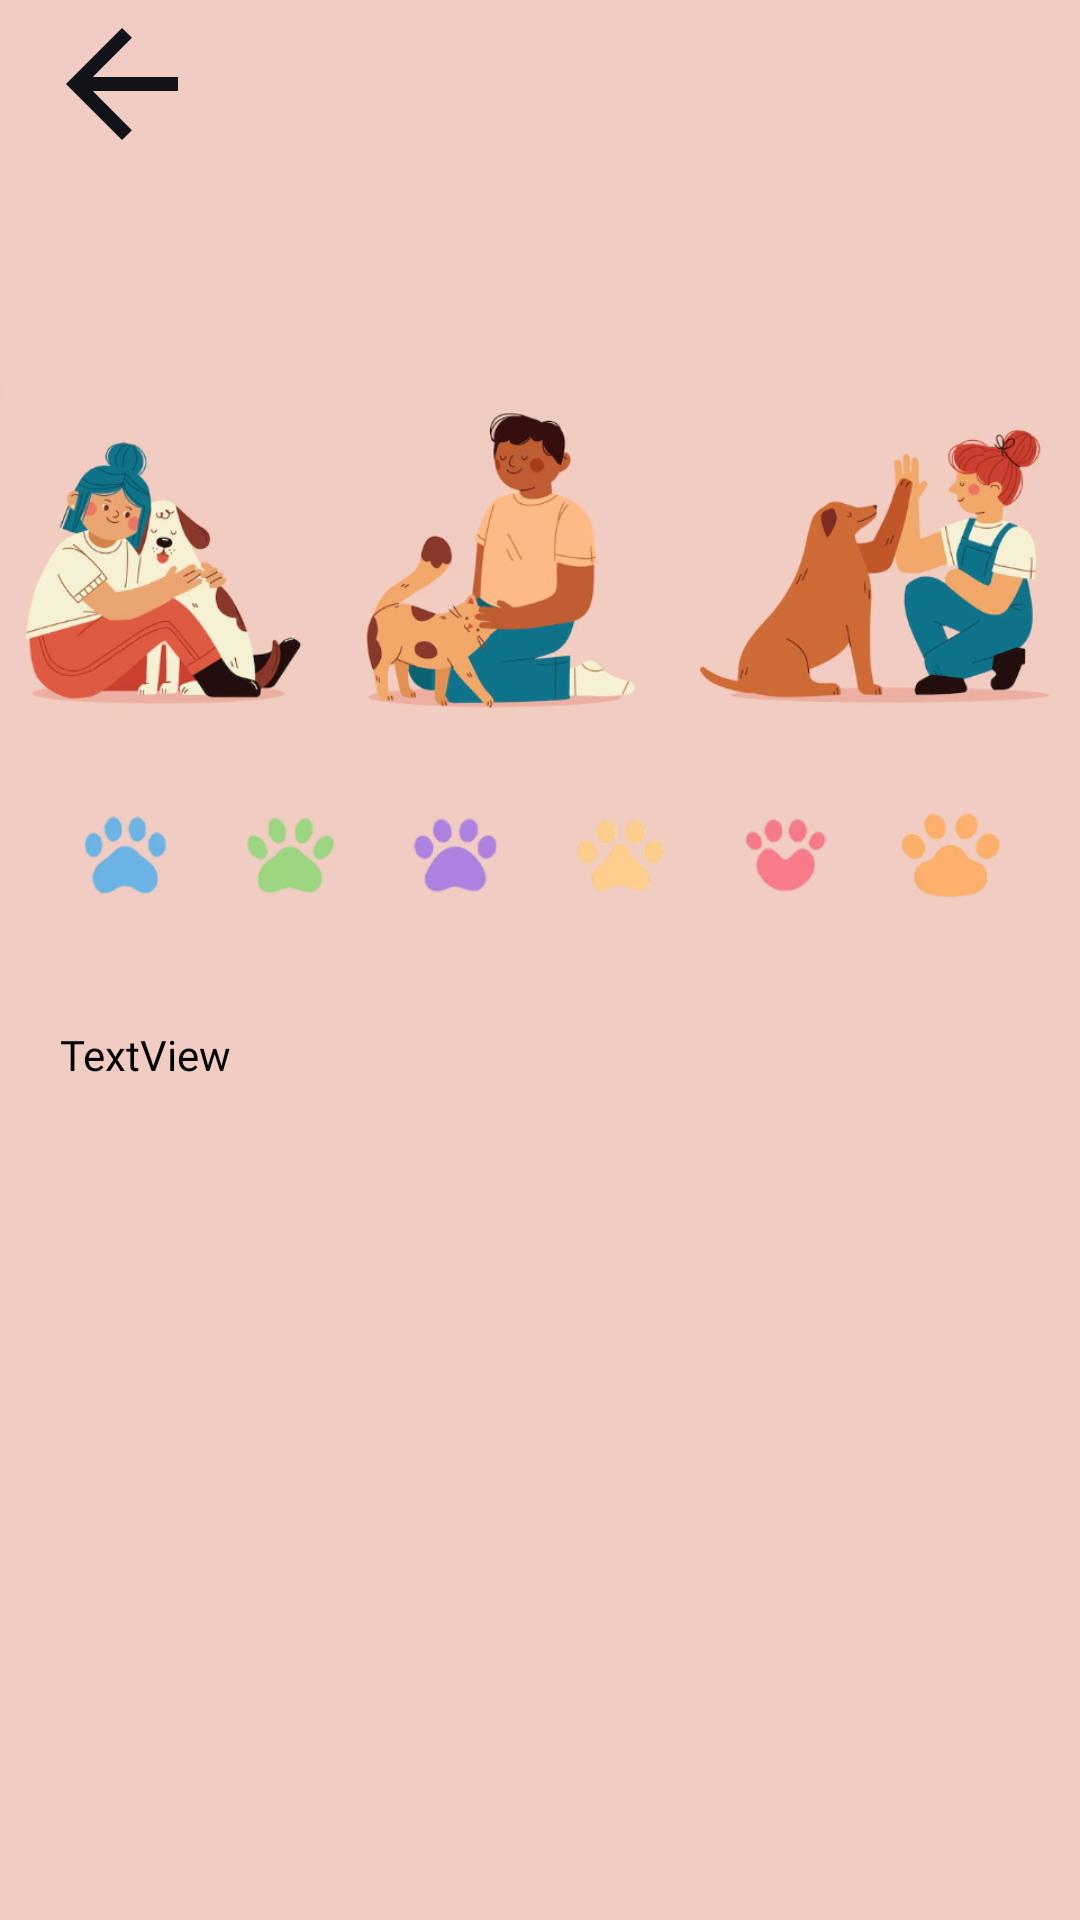

Icon bounding boxes for this 1080w x 1920h phone screenshot, format (x1, y1, x2, y2):
arrow back: (66, 28, 178, 140)
